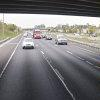Car: (18, 34, 37, 52)
